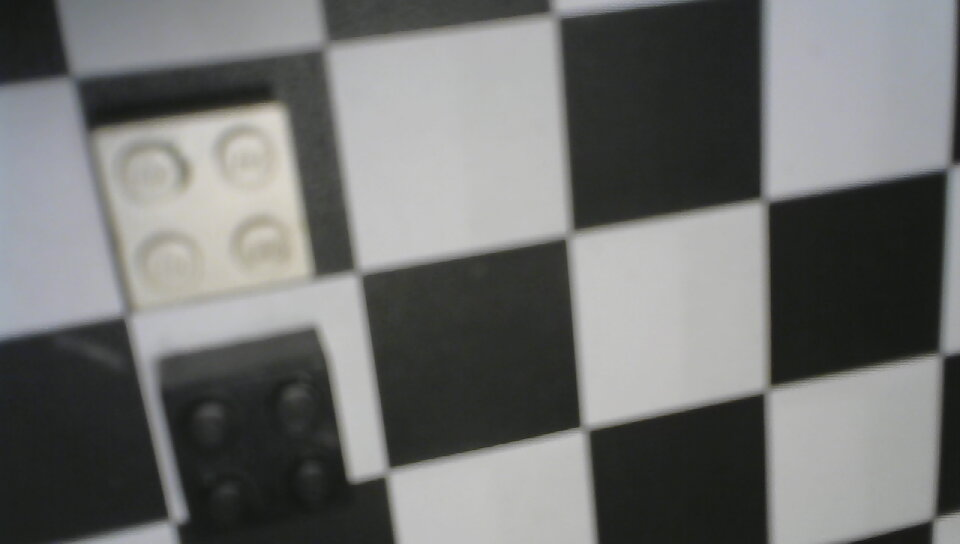wp: (69, 91, 330, 324)
